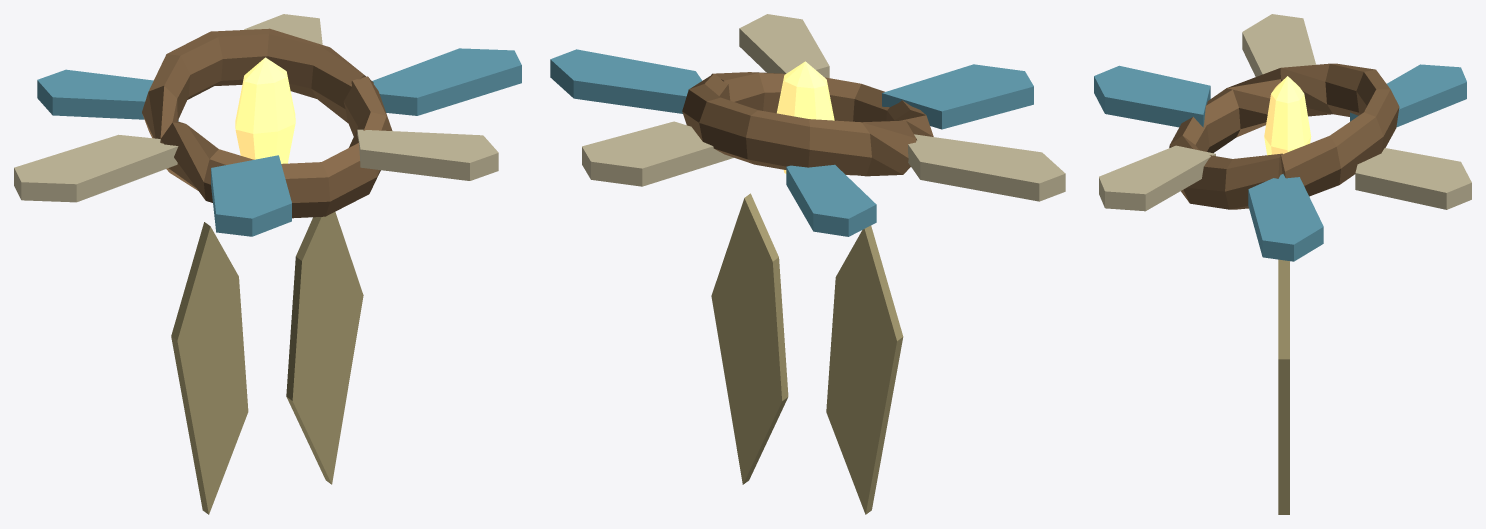
Rendered from solar.glb.
3 renders of one model, left to right at view 1: azimuth 30°, elevation 25°; view 2: azimuth 150°, elevation 25°; view 3: azimuth 270°, elevation 25°, orthographic. The views are drawn at different scales.
Visible parts, largest first — view 1: body, wing_l, wing_r; view 2: body, wing_r, wing_l; view 3: body, wing_r.
Boxes of the visible parts, <box> form: body: <box>14,14,521,236</box>; wing_l: <box>171,222,248,514</box>; wing_r: <box>286,212,363,484</box>; body: <box>550,14,1065,236</box>; wing_r: <box>711,193,788,484</box>; wing_l: <box>826,225,903,514</box>; body: <box>1094,14,1471,261</box>; wing_r: <box>1278,259,1289,514</box>.
Bounding box in the file's own units: 3.25 × 2.7 × 2.25.
